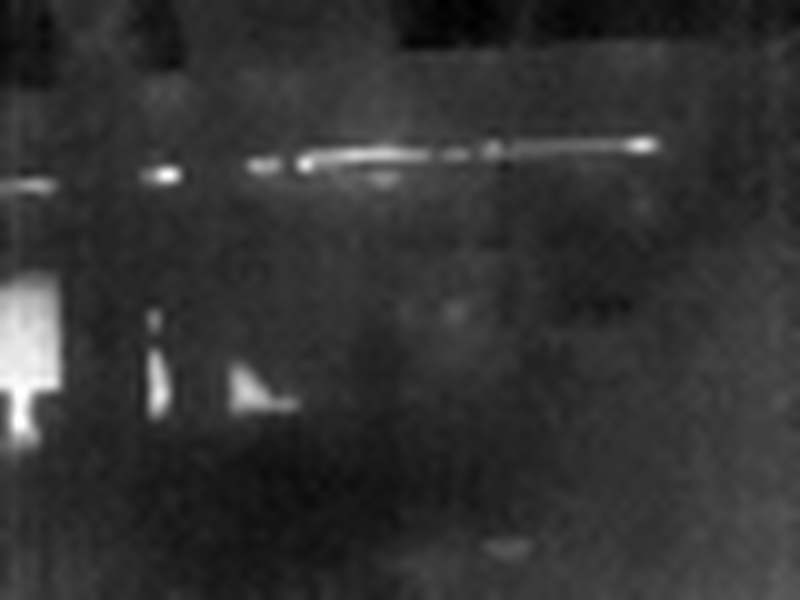elephant: (2, 262, 308, 454)
